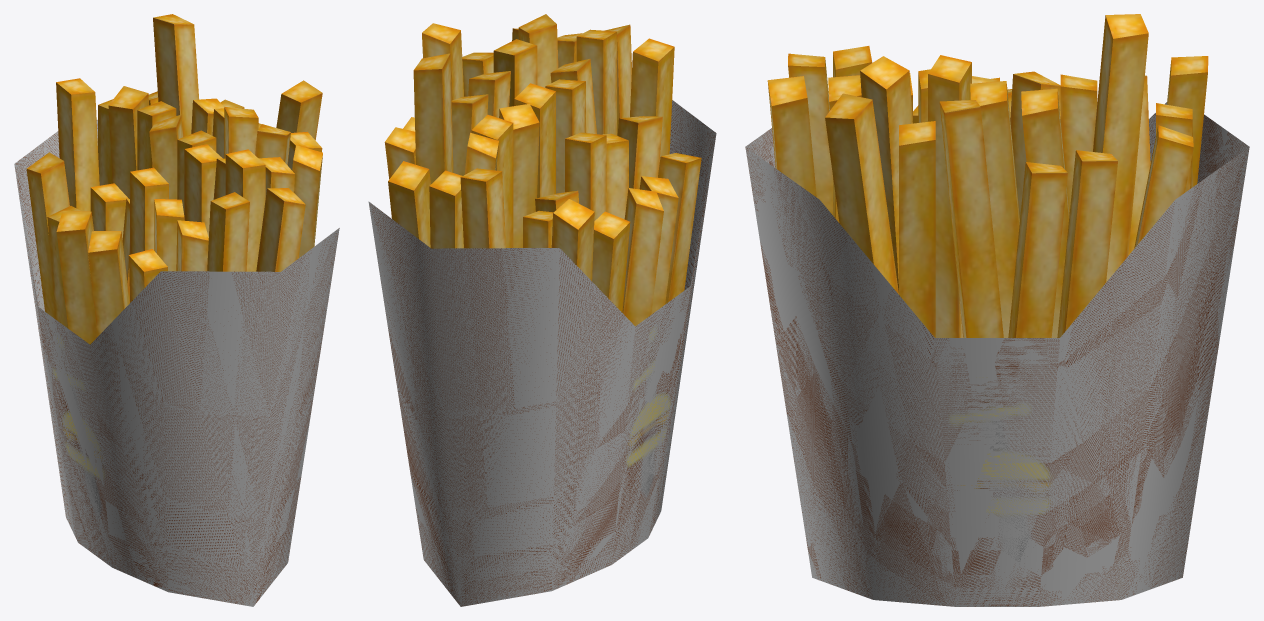
The model's file is pack_french_fries.FBX.
The picture shows the model from 3 angles, left to right: view 1: azimuth 30°, elevation 25°; view 2: azimuth 150°, elevation 25°; view 3: azimuth 270°, elevation 25°; orthographic projection. The views are drawn at different scales.
Visible parts, largest first — view 1: pack_french_fries_LOD00; view 2: pack_french_fries_LOD00; view 3: pack_french_fries_LOD00.
Boxes of the visible parts, box(x1,y1,x2,y2) form: pack_french_fries_LOD00: box(14, 14, 339, 606); pack_french_fries_LOD00: box(368, 14, 716, 606); pack_french_fries_LOD00: box(745, 14, 1249, 606).
Size of what is drawn, in the model's own units: 6.7 by 12.85 by 10.
